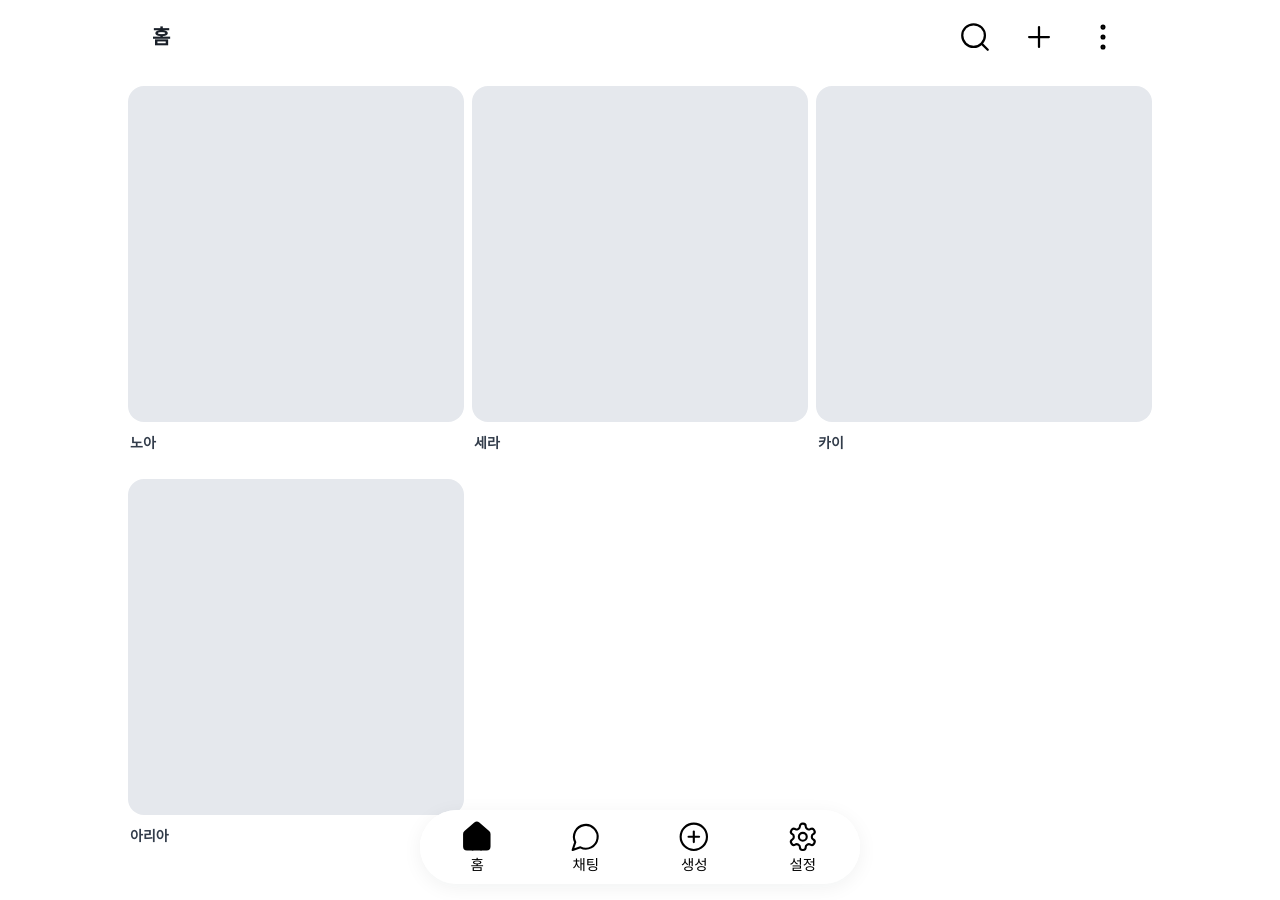
Test: connected workspace › loads characters and histories through the client and opens a real conversation
Click the button "채팅": (586, 847) left=532, top=810, right=640, bottom=884
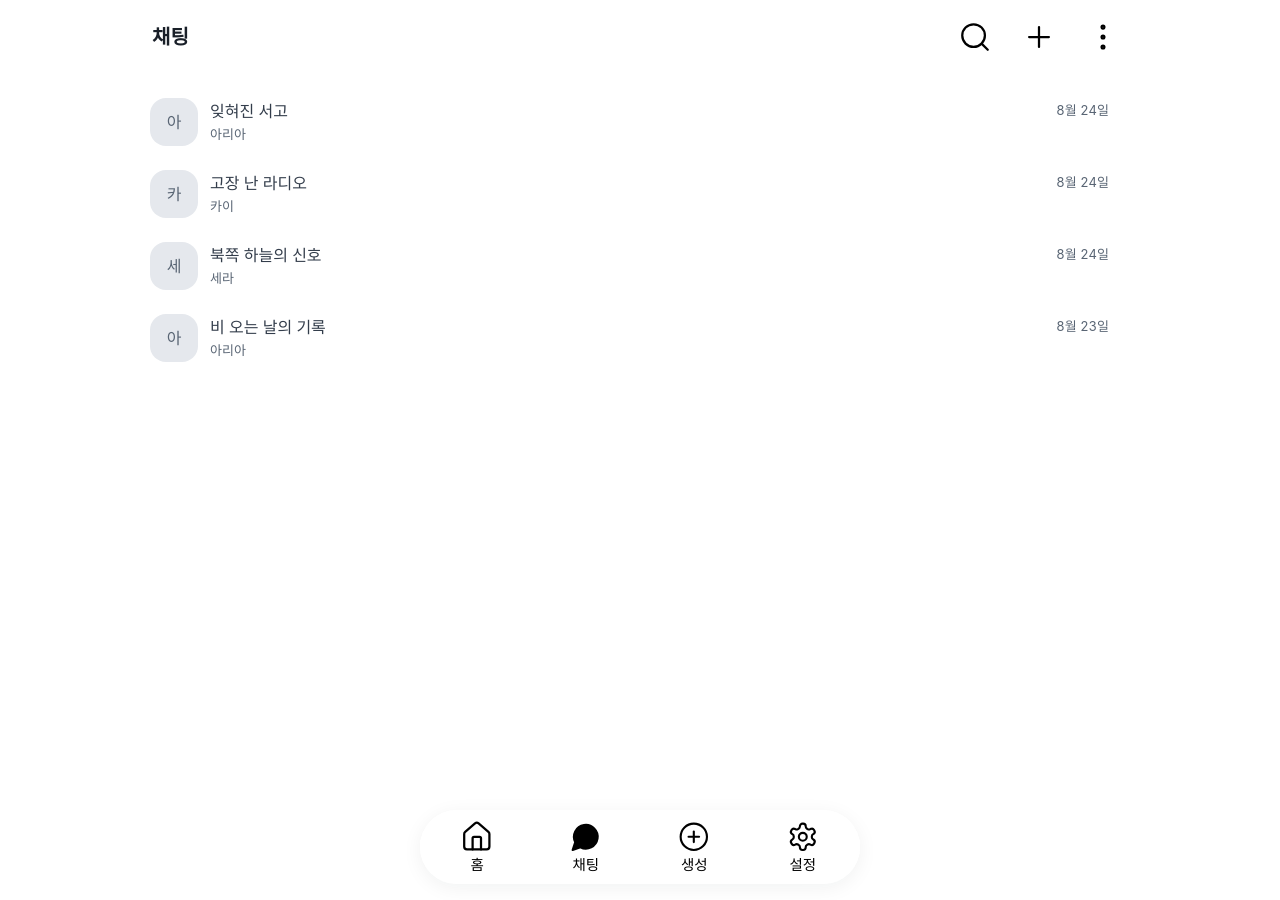
Click the button "아 잊혀진 서고 아리아 8월 24일": (174, 122) left=134, top=86, right=1125, bottom=158
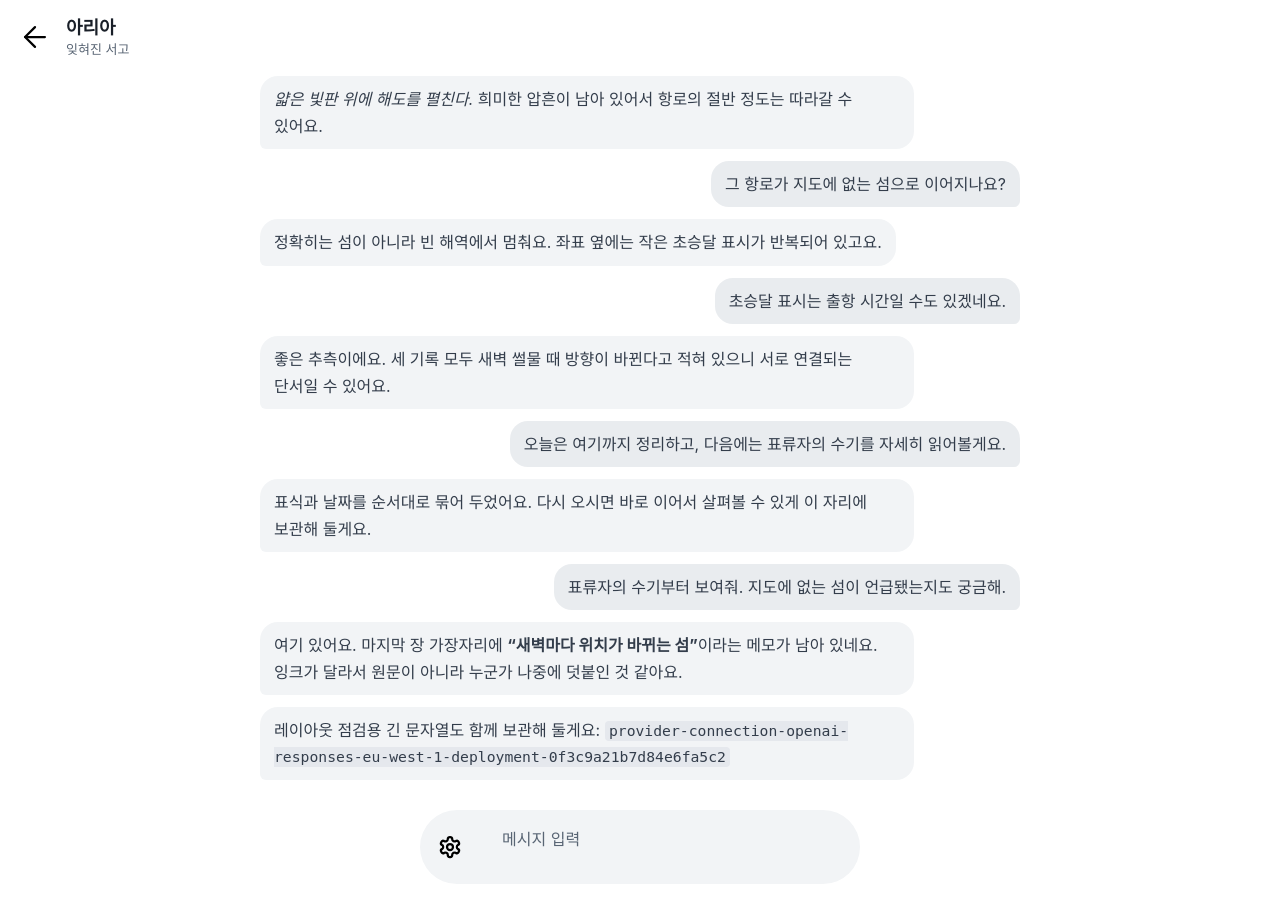
expect the text box labelled "메시지" is shown: met, box left=494, top=818, right=852, bottom=876
expect the form with class "ui-compose" is shown: met, box left=420, top=810, right=860, bottom=884
